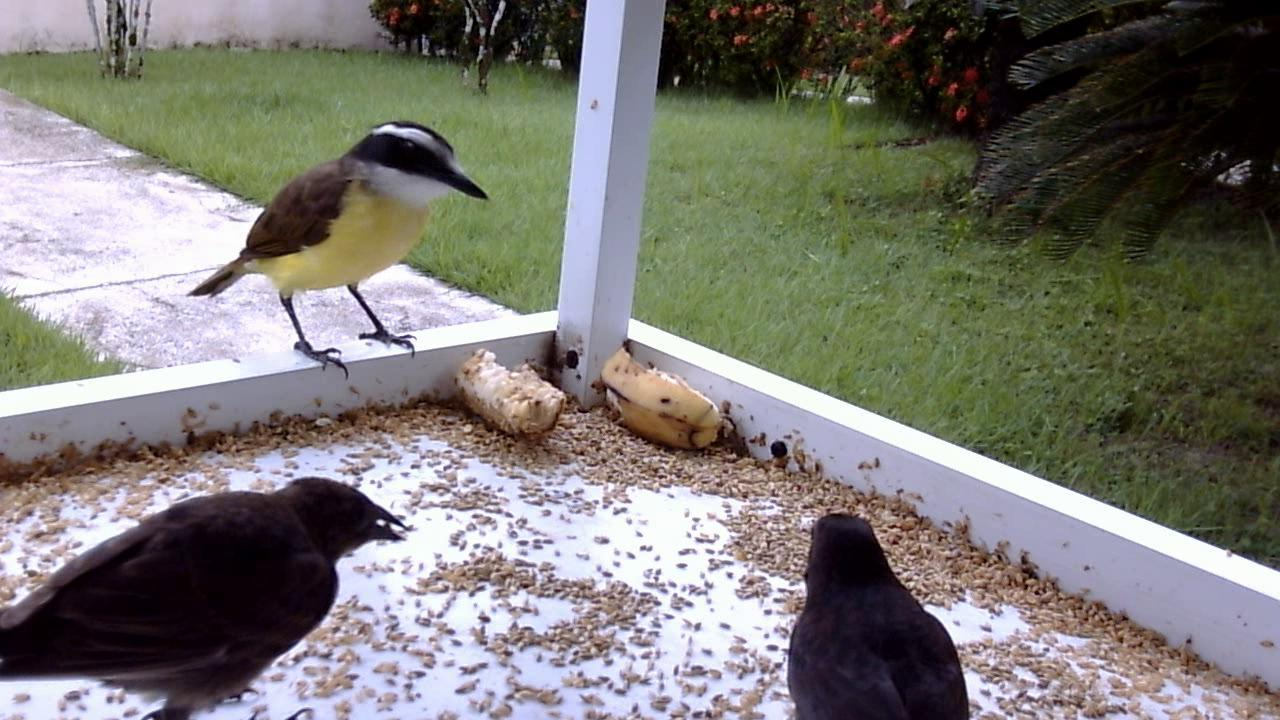bem_te_vi: (185, 112, 494, 385)
chupim: (2, 461, 421, 720), (780, 500, 978, 720)
